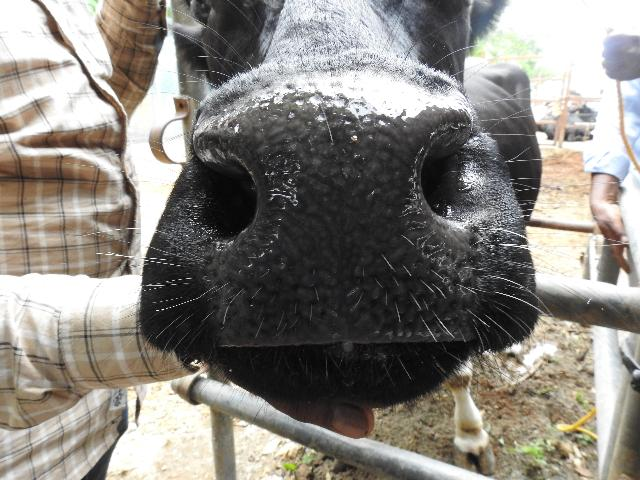Muzzle: (247, 94, 433, 326)
